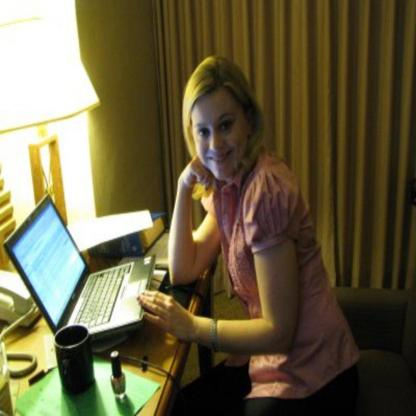board: (3, 192, 154, 342), (110, 350, 126, 401)
